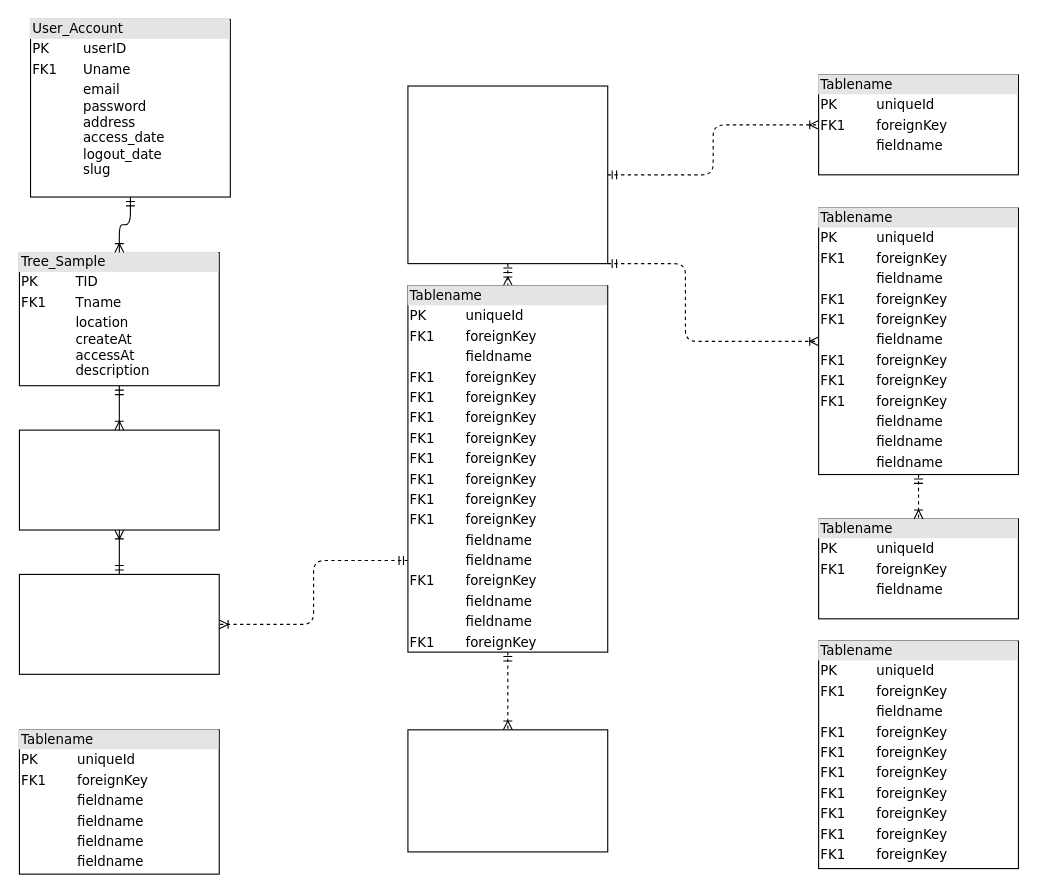
Image size: 1038x894. Some labels were removed from this diagram. The centre of each missing label's shape, as x and y in pixels:
"Devices PK DID FK1 Dname function active createAt FK1 data FK1 foreignKey" goes at (507,174).
"Tablename PK uniqueId FK1 foreignKey fieldname fieldname" goes at (118,623).
"Tablename PK uniqueId FK1 foreignKey fieldname fieldname FK1 foreignKey" goes at (507,790).
"Tree_Detail PK TID FK1 foreignKey fieldname fieldname" goes at (118,479).
